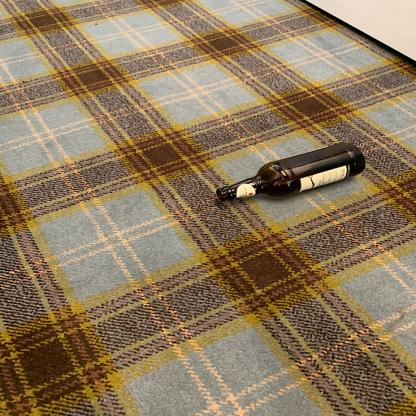trash: (216, 142, 368, 204)
